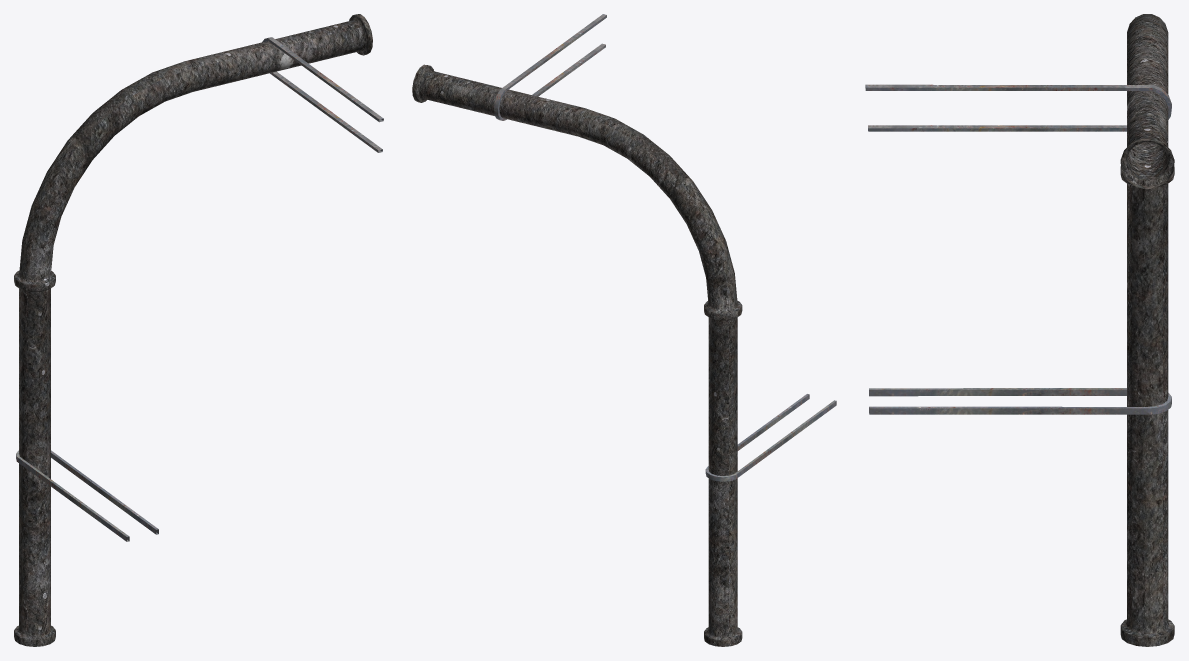
Rendered from Pipe_05.FBX.
The picture shows the model from 3 angles, left to right: view 1: azimuth 30°, elevation 25°; view 2: azimuth 150°, elevation 25°; view 3: azimuth 270°, elevation 25°; orthographic projection. The views are drawn at different scales.
Visible parts, largest first — view 1: Pipe_05; view 2: Pipe_05; view 3: Pipe_05.
Part boxes in pixels (left/top/right/bottom): Pipe_05: left=14, top=14, right=383, bottom=646; Pipe_05: left=412, top=14, right=836, bottom=646; Pipe_05: left=865, top=14, right=1174, bottom=646.
Bounding box in the file's own units: 78.53 × 118 × 47.1.
